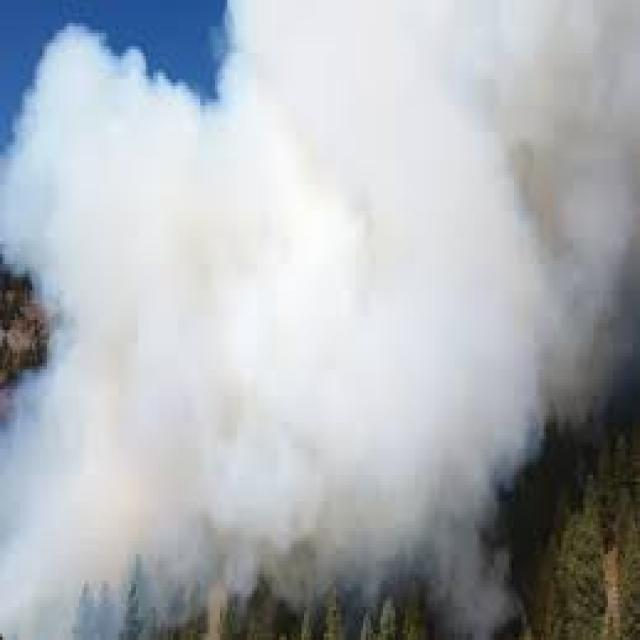Smoke: (0, 0, 640, 640), (109, 88, 541, 462), (398, 14, 640, 486), (127, 164, 436, 426), (402, 0, 534, 580), (420, 195, 640, 534), (284, 29, 472, 379), (127, 450, 440, 640), (73, 203, 299, 450), (330, 417, 548, 640), (35, 408, 170, 640)
